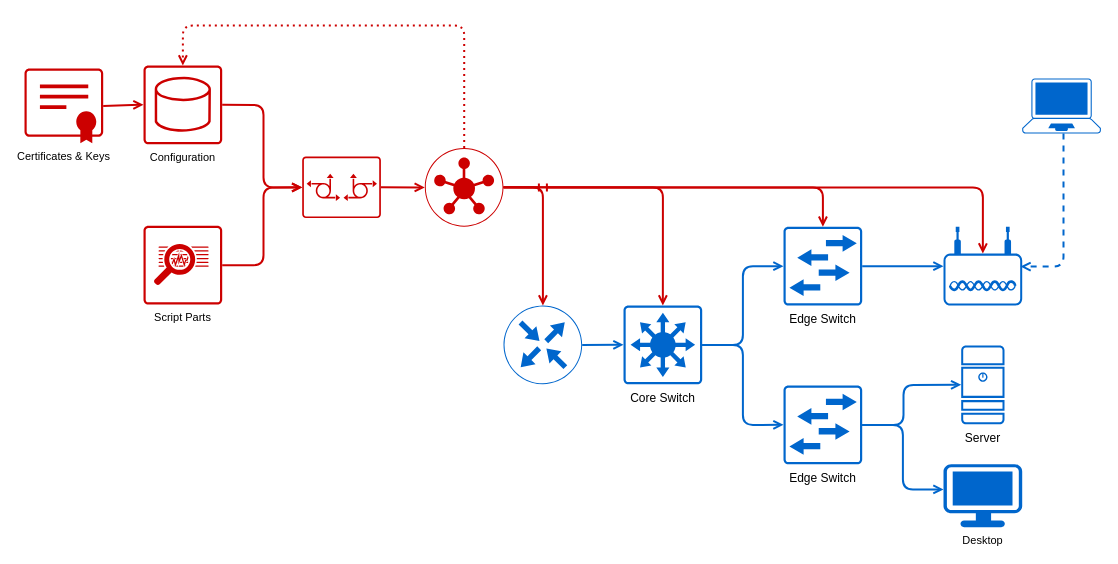
This 1118x564 diagram has some shape labels left out. The centre of each missing label's shape, as x and y in pixels:
"Access Point" goes at (x=982, y=266).
"Mikrotik Scripts" goes at (x=464, y=187).
"Router" goes at (x=542, y=344).
"Script Export" goes at (x=341, y=187).
